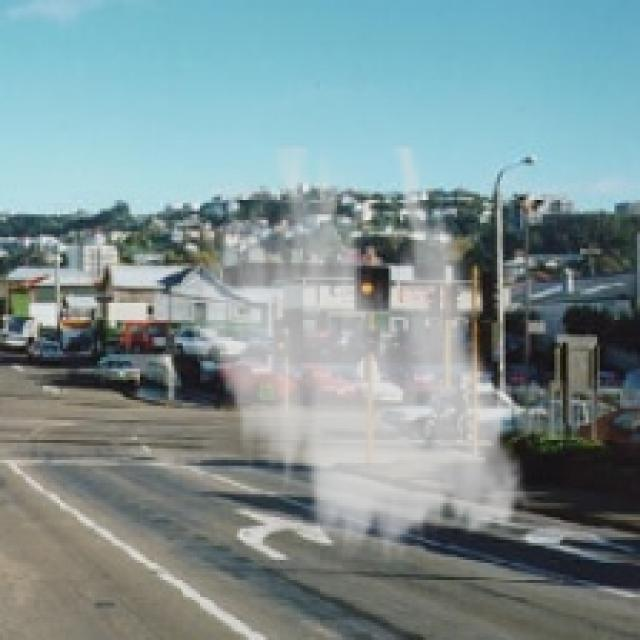Smoke: (180, 143, 540, 566)
